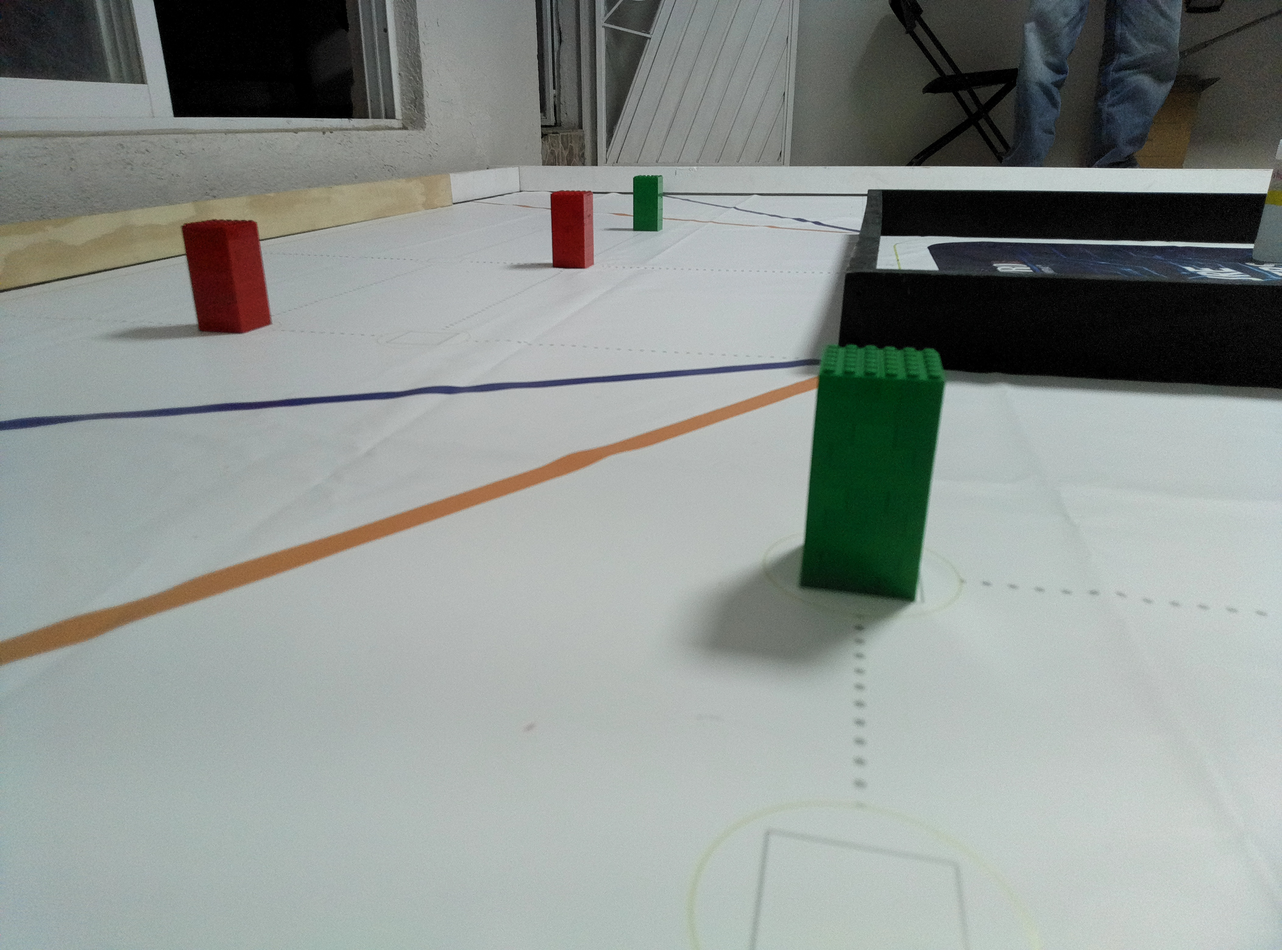greenbox: (797, 339, 947, 606), (633, 175, 663, 231)
redbox: (180, 218, 273, 335), (549, 191, 595, 269)
